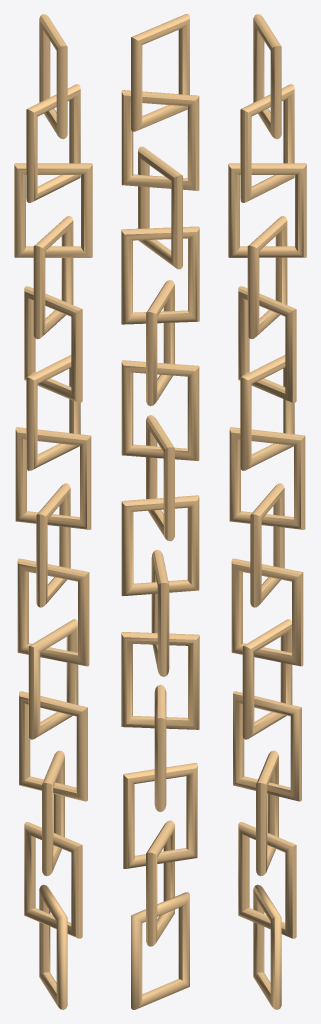
The model's file is chandlierChain.glb.
3 renders of one model, left to right at view 1: azimuth 90°, elevation 25°; view 2: azimuth 210°, elevation 25°; view 3: azimuth 270°, elevation 25°, orthographic.
Visible parts, largest first — view 1: chain; view 2: chain; view 3: chain.
Part boxes in pixels (<box>): chain: <box>14,14,92,1009</box>; chain: <box>121,14,199,1009</box>; chain: <box>228,14,306,1009</box>.
Bounding box in the file's own units: 0.0133 × 0.1841 × 0.0135.
